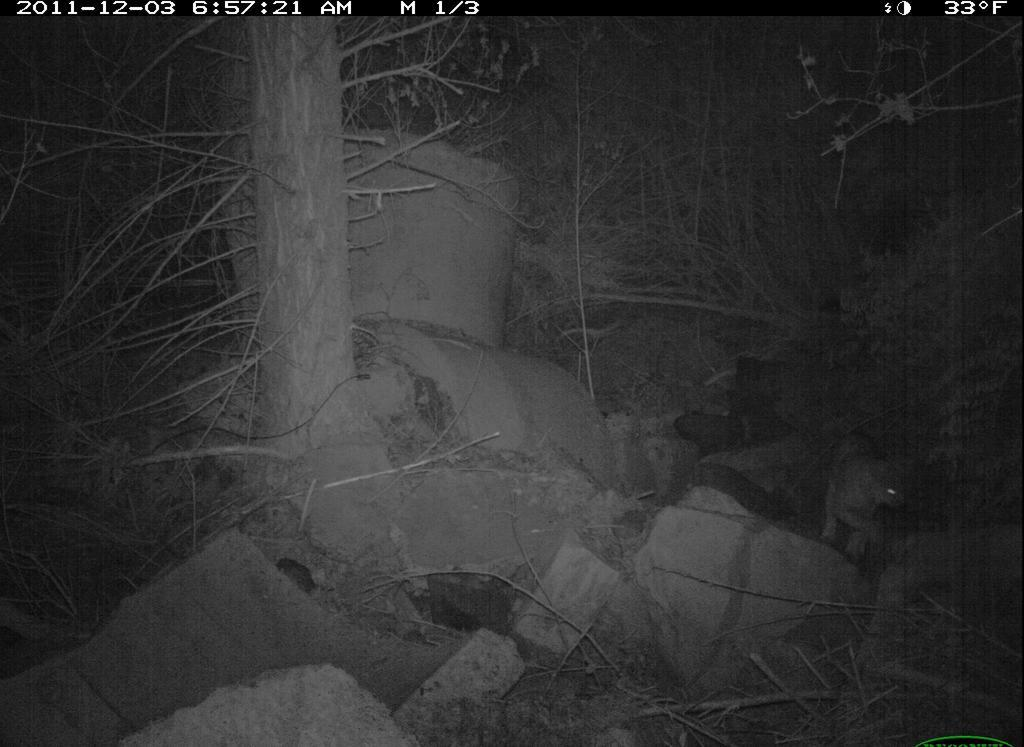bobcat: (821, 432, 908, 562)
